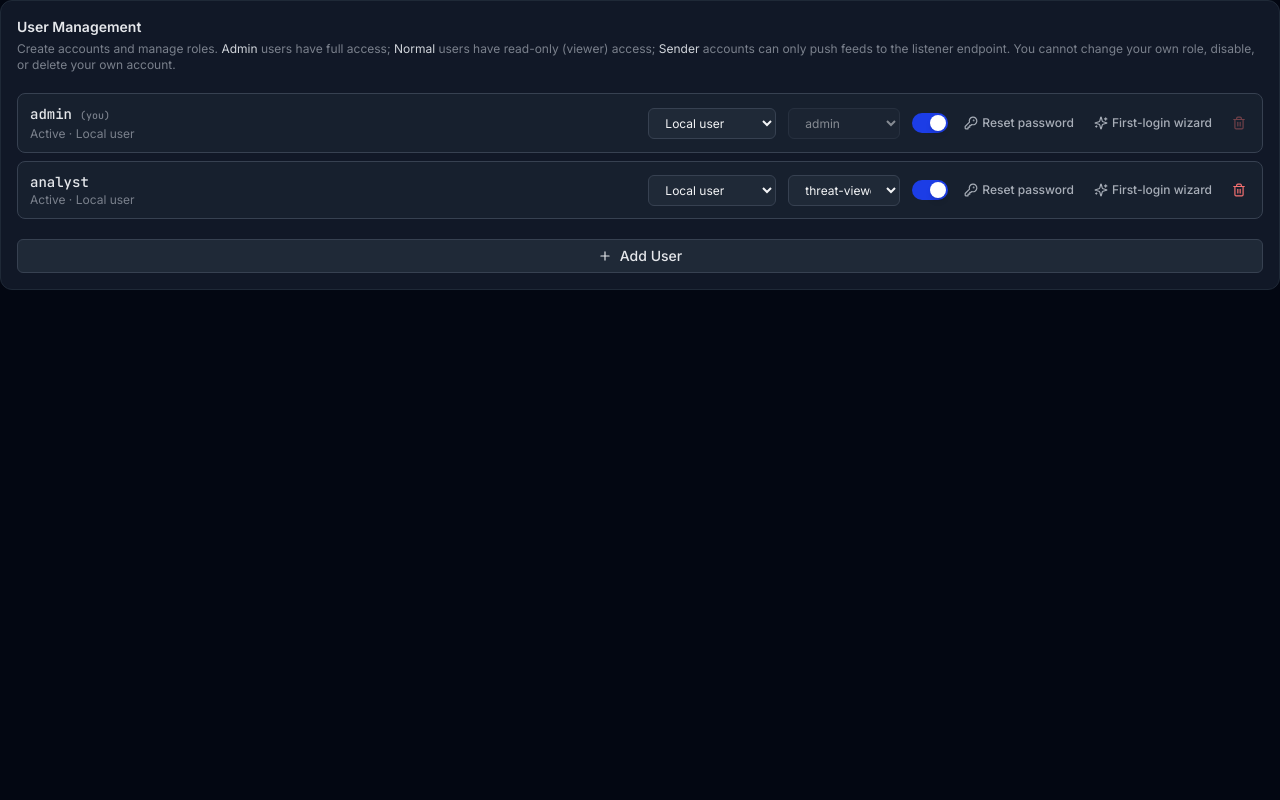
UserManagementTab (prompts-045) › generates a random password on explicit confirm and shows it read-only (issue-local-016)
The width and height of the screenshot is (1280, 800).
Expected: the text "analyst" is shown, left=30, top=173, right=89, bottom=191
Click the button titled "Reset password" in the row of "analyst" at x=1019, y=190, box left=960, top=178, right=1078, bottom=202
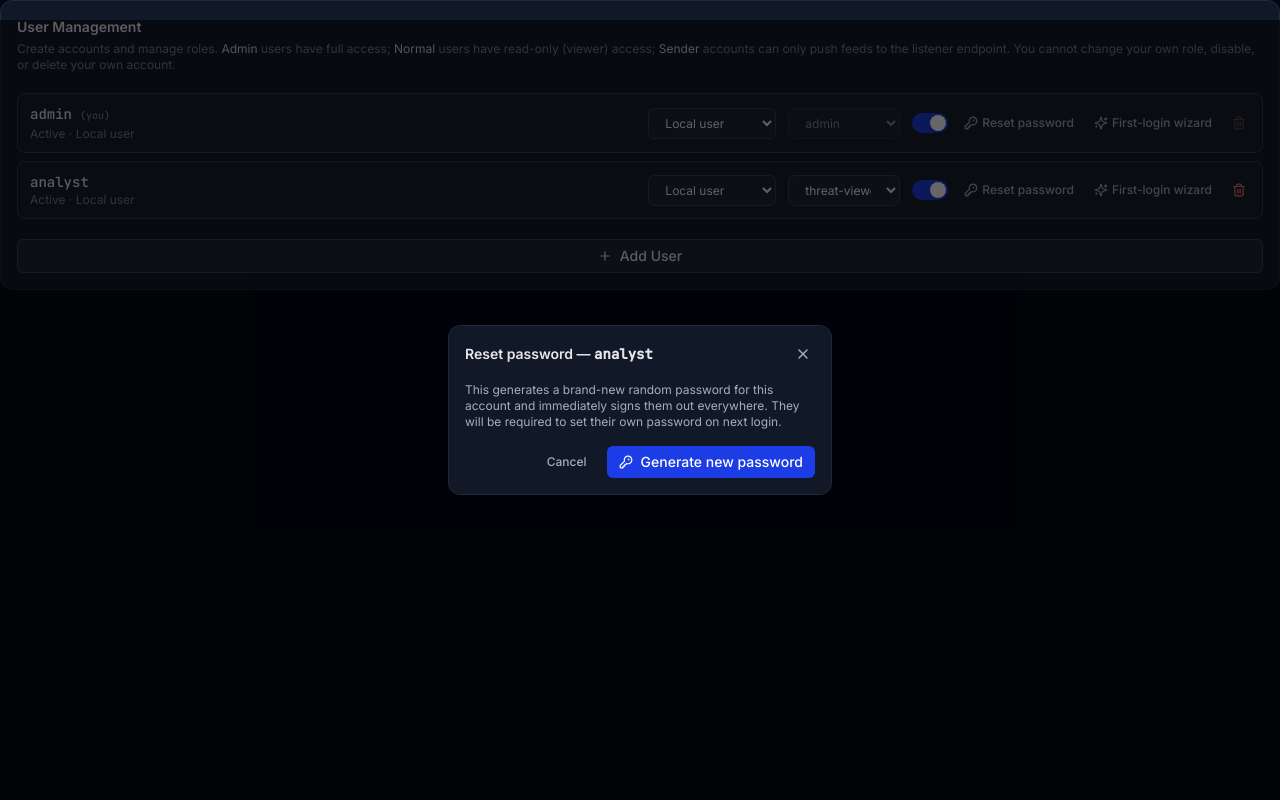
Result: the button "Generate new password" is shown
Click the button "Generate new password" at x=711, y=462, box left=607, top=446, right=815, bottom=478
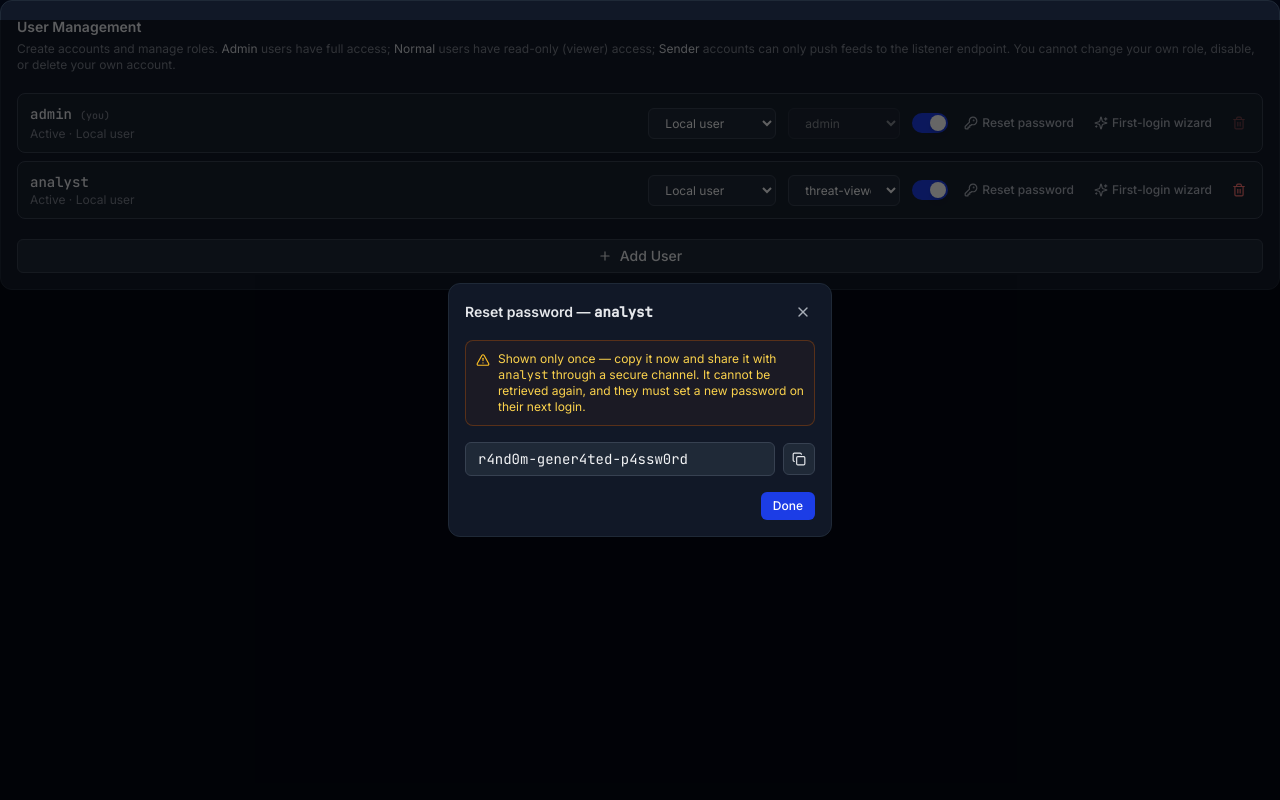
Result: the field named "Generated password" holds "r4nd0m-gener4ted-p4ssw0rd" at left=465, top=442, right=775, bottom=476
Result: the button titled "Copy to clipboard" is shown at left=783, top=443, right=815, bottom=475
